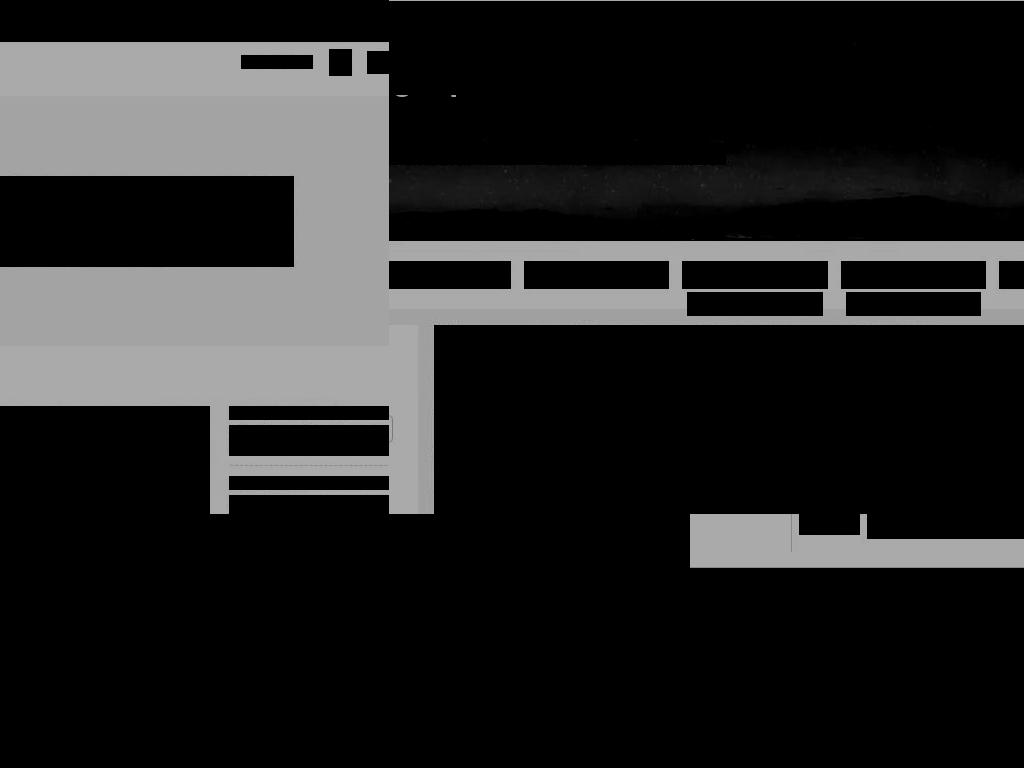button: (434, 325, 918, 514), (918, 325, 1024, 514), (918, 325, 1024, 514), (918, 325, 1024, 514), (918, 325, 1024, 514), (389, 514, 690, 568), (389, 568, 484, 632), (665, 568, 746, 632), (229, 425, 389, 456), (237, 2, 389, 33), (810, 568, 883, 632), (541, 568, 609, 632), (746, 568, 810, 632), (682, 261, 828, 289), (841, 261, 986, 289), (484, 568, 541, 632), (609, 568, 665, 632), (389, 658, 525, 682), (883, 568, 934, 632), (229, 495, 389, 514), (977, 568, 1024, 632), (934, 568, 977, 632), (117, 2, 205, 33), (0, 2, 85, 33), (959, 408, 1024, 444), (959, 493, 1024, 514), (1003, 568, 1024, 632), (329, 49, 352, 76), (367, 51, 389, 74)
field: (524, 261, 669, 289), (389, 261, 511, 289), (687, 292, 823, 316), (846, 292, 981, 316), (999, 261, 1024, 289)
heading: (229, 425, 389, 456), (229, 495, 389, 514), (229, 406, 389, 420), (229, 476, 389, 490), (959, 345, 1024, 375)
iframe: (0, 176, 294, 267)
image: (0, 514, 389, 768), (0, 514, 389, 768), (434, 325, 918, 514), (389, 634, 1024, 768), (0, 572, 156, 722), (918, 325, 1024, 514), (918, 325, 1024, 514), (918, 325, 1024, 514), (918, 325, 1024, 514), (389, 514, 666, 544), (799, 514, 860, 535), (808, 262, 827, 288), (966, 262, 985, 288), (331, 51, 350, 70), (370, 53, 389, 69), (1020, 592, 1024, 608), (641, 504, 649, 511)
link: (933, 383, 1024, 401), (933, 423, 1015, 441), (959, 495, 1024, 514), (933, 403, 999, 421), (449, 423, 512, 441), (933, 423, 981, 441)
text: (389, 61, 1024, 95), (449, 443, 829, 481), (389, 143, 726, 165), (389, 117, 725, 139), (933, 403, 1024, 481), (933, 423, 1024, 481), (867, 514, 1024, 539), (933, 443, 1024, 481), (933, 443, 1024, 481), (693, 267, 791, 285), (852, 267, 949, 285), (389, 592, 476, 608), (673, 592, 738, 608), (241, 55, 313, 69), (818, 592, 875, 608), (959, 392, 1024, 406), (959, 477, 1024, 491), (549, 592, 601, 608), (754, 592, 802, 608), (492, 592, 533, 608), (617, 592, 657, 608), (985, 592, 1021, 608), (891, 592, 926, 608), (942, 592, 969, 608)
